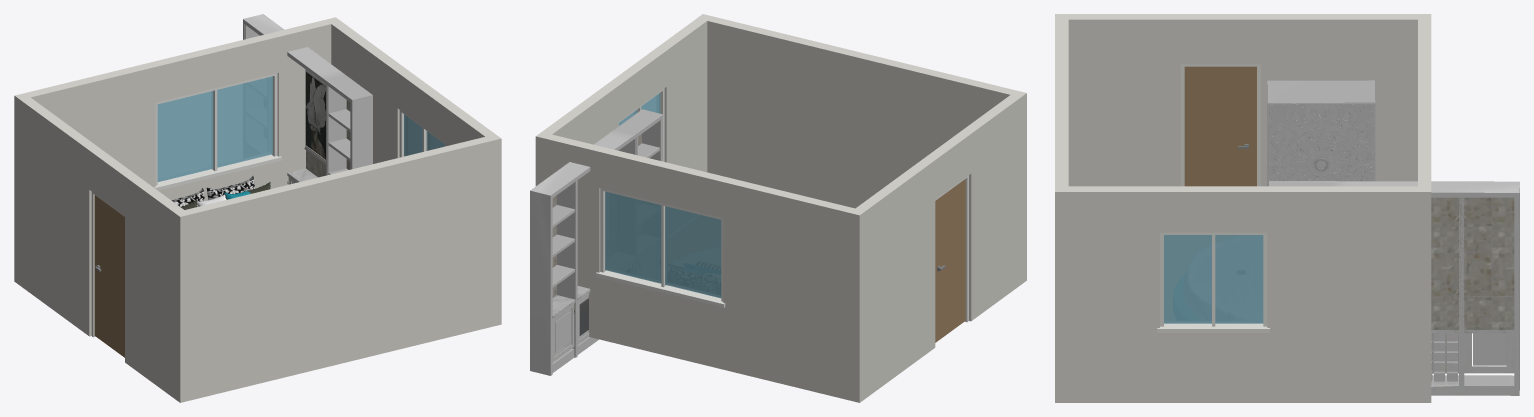
The model's file is atiss.glb.
3 views of the same model, side by side, from view 1: azimuth 30°, elevation 25°; view 2: azimuth 150°, elevation 25°; view 3: azimuth 270°, elevation 25° (orthographic). The views are drawn at different scales.
Parts seen in each view (by area): view 1: wall|scenesmith_000__R00|0, wall|scenesmith_000__R00|2, wall|scenesmith_000__R00|1, wall|scenesmith_000__R00|1 Window 0 | glazing, wall|scenesmith_000__R00|3, raw_model, wall|scenesmith_000__R00|2 Door 0 | wood leaf, wall|scenesmith_000__R00|1 Window 0 | jamb, raw_model.003, wall|scenesmith_000__R00|3 Window 0 | glazing, wall|scenesmith_000__R00|2 Door 0 | jamb, wall|scenesmith_000__R00|3 Window 0 | jamb; view 2: wall|scenesmith_000__R00|1, wall|scenesmith_000__R00|0, wall|scenesmith_000__R00|2, raw_model, wall|scenesmith_000__R00|3, wall|scenesmith_000__R00|1 Window 0 | glazing, wall|scenesmith_000__R00|2 Door 0 | wood leaf, wall|scenesmith_000__R00|1 Window 0 | jamb, wall|scenesmith_000__R00|2 Door 0 | jamb; view 3: wall|scenesmith_000__R00|3, wall|scenesmith_000__R00|2, raw_model, raw_model.002, wall|scenesmith_000__R00|2 Door 0 | wood leaf, wall|scenesmith_000__R00|3 Window 0 | glazing, wall|scenesmith_000__R00|3 Window 0 | jamb, wall|scenesmith_000__R00|0, wall|scenesmith_000__R00|1, wall|scenesmith_000__R00|2 Door 0 | jamb.
Boxes of the visible parts, x1,y1,x2,y2 form: wall|scenesmith_000__R00|0: [174, 137, 501, 402]; wall|scenesmith_000__R00|2: [14, 93, 190, 402]; wall|scenesmith_000__R00|1: [25, 20, 331, 200]; wall|scenesmith_000__R00|1 Window 0 | glazing: [157, 76, 272, 181]; wall|scenesmith_000__R00|3: [326, 17, 501, 208]; raw_model: [243, 14, 372, 184]; wall|scenesmith_000__R00|2 Door 0 | wood leaf: [94, 195, 124, 357]; wall|scenesmith_000__R00|1 Window 0 | jamb: [154, 73, 281, 190]; raw_model.003: [171, 176, 270, 209]; wall|scenesmith_000__R00|3 Window 0 | glazing: [404, 114, 444, 156]; wall|scenesmith_000__R00|2 Door 0 | jamb: [91, 192, 124, 337]; wall|scenesmith_000__R00|3 Window 0 | jamb: [399, 110, 444, 157]; wall|scenesmith_000__R00|1: [546, 134, 854, 400]; wall|scenesmith_000__R00|0: [707, 16, 1026, 284]; wall|scenesmith_000__R00|2: [849, 90, 1026, 402]; raw_model: [530, 109, 662, 375]; wall|scenesmith_000__R00|3: [535, 14, 712, 185]; wall|scenesmith_000__R00|1 Window 0 | glazing: [605, 191, 721, 298]; wall|scenesmith_000__R00|2 Door 0 | wood leaf: [935, 179, 965, 342]; wall|scenesmith_000__R00|1 Window 0 | jamb: [596, 188, 725, 307]; wall|scenesmith_000__R00|2 Door 0 | jamb: [935, 175, 968, 322]; wall|scenesmith_000__R00|3: [1055, 186, 1431, 402]; wall|scenesmith_000__R00|2: [1055, 14, 1431, 186]; raw_model: [1269, 181, 1519, 395]; raw_model.002: [1267, 80, 1375, 186]; wall|scenesmith_000__R00|2 Door 0 | wood leaf: [1184, 66, 1256, 186]; wall|scenesmith_000__R00|3 Window 0 | glazing: [1164, 235, 1263, 323]; wall|scenesmith_000__R00|3 Window 0 | jamb: [1157, 232, 1269, 332]; wall|scenesmith_000__R00|0: [1055, 19, 1068, 186]; wall|scenesmith_000__R00|1: [1418, 19, 1431, 186]; wall|scenesmith_000__R00|2 Door 0 | jamb: [1180, 64, 1260, 186].
Bounding box in the file's own units: 4.73 × 2.74 × 5.19.
11 materials, 5 textured.
